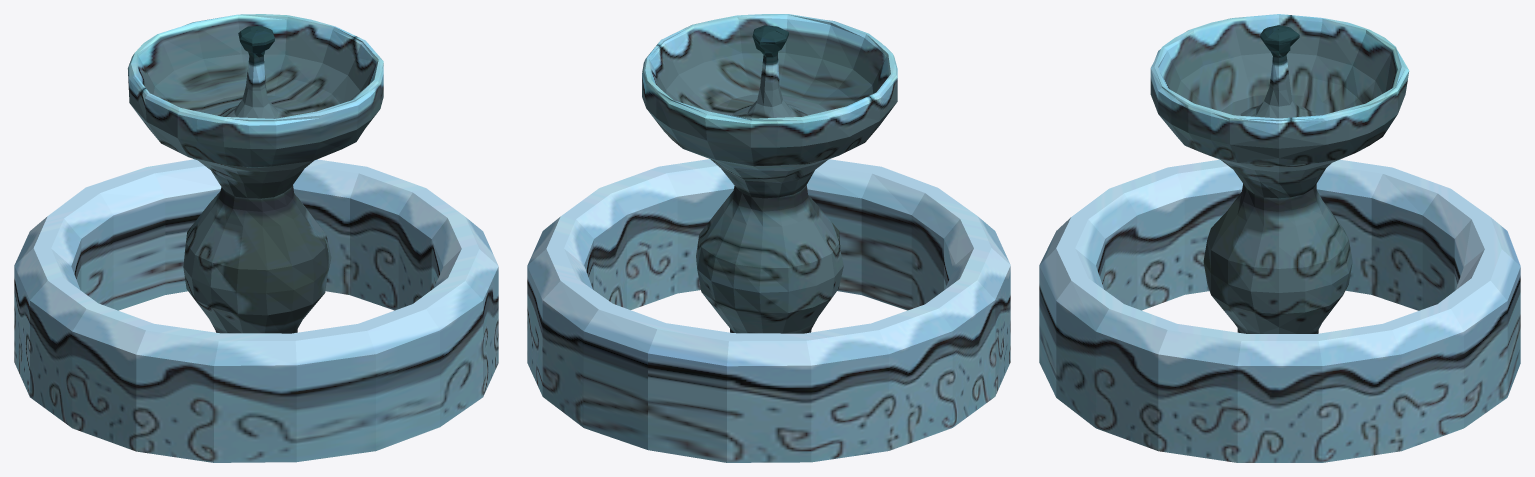
The model's file is Fount.glb.
The picture shows the model from 3 angles, left to right: view 1: azimuth 30°, elevation 25°; view 2: azimuth 150°, elevation 25°; view 3: azimuth 270°, elevation 25°; orthographic projection.
Parts seen in each view (by area): view 1: Fount; view 2: Fount; view 3: Fount.
Boxes of the visible parts, x1=… form: Fount: x1=14, y1=14, x2=498, y2=462; Fount: x1=527, y1=14, x2=1010, y2=462; Fount: x1=1039, y1=14, x2=1520, y2=462.
Bounding box in the file's own units: 153 × 121 × 156.
1 material, 1 textured.
